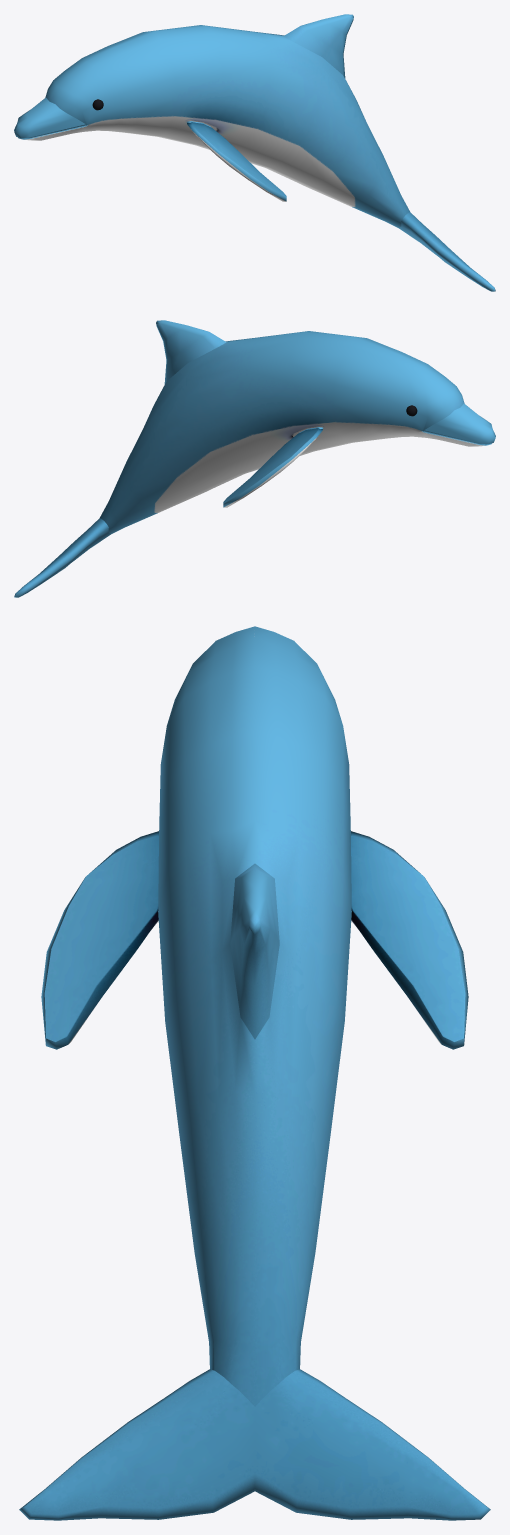
The picture shows the model from 3 angles, top to bottom: view 1: azimuth 30°, elevation 25°; view 2: azimuth 150°, elevation 25°; view 3: azimuth 270°, elevation 25°; orthographic projection. The views are drawn at different scales.
Visible parts, largest first — view 1: dolphin_dolphin_0; view 2: dolphin_dolphin_0; view 3: dolphin_dolphin_0.
Boxes of the visible parts, bbox=[...] form: dolphin_dolphin_0: bbox=[14, 14, 495, 291]; dolphin_dolphin_0: bbox=[14, 320, 495, 597]; dolphin_dolphin_0: bbox=[19, 626, 490, 1520].
Size of the model in its own units: 0.0493 by 0.032 by 0.0237.
Materials: 1 (1 with a texture image).
